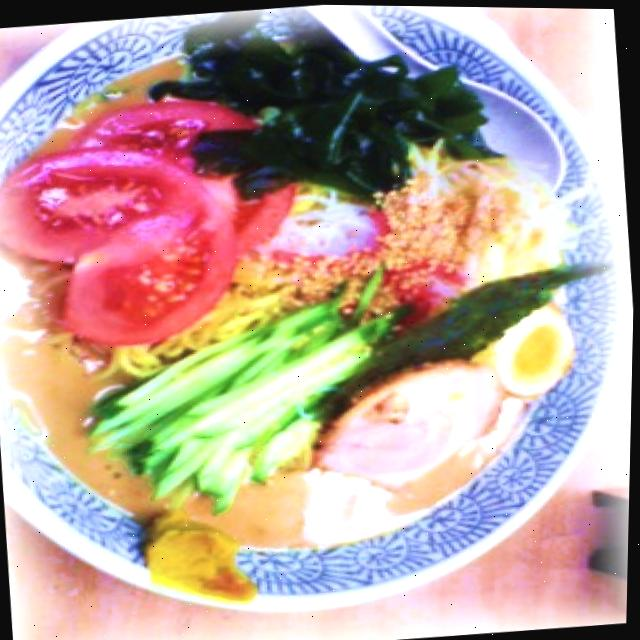面条主食: (3, 0, 638, 634)
